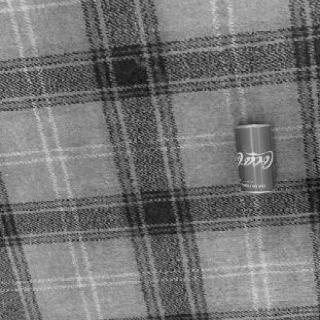alumunium_can: (236, 122, 276, 195)
